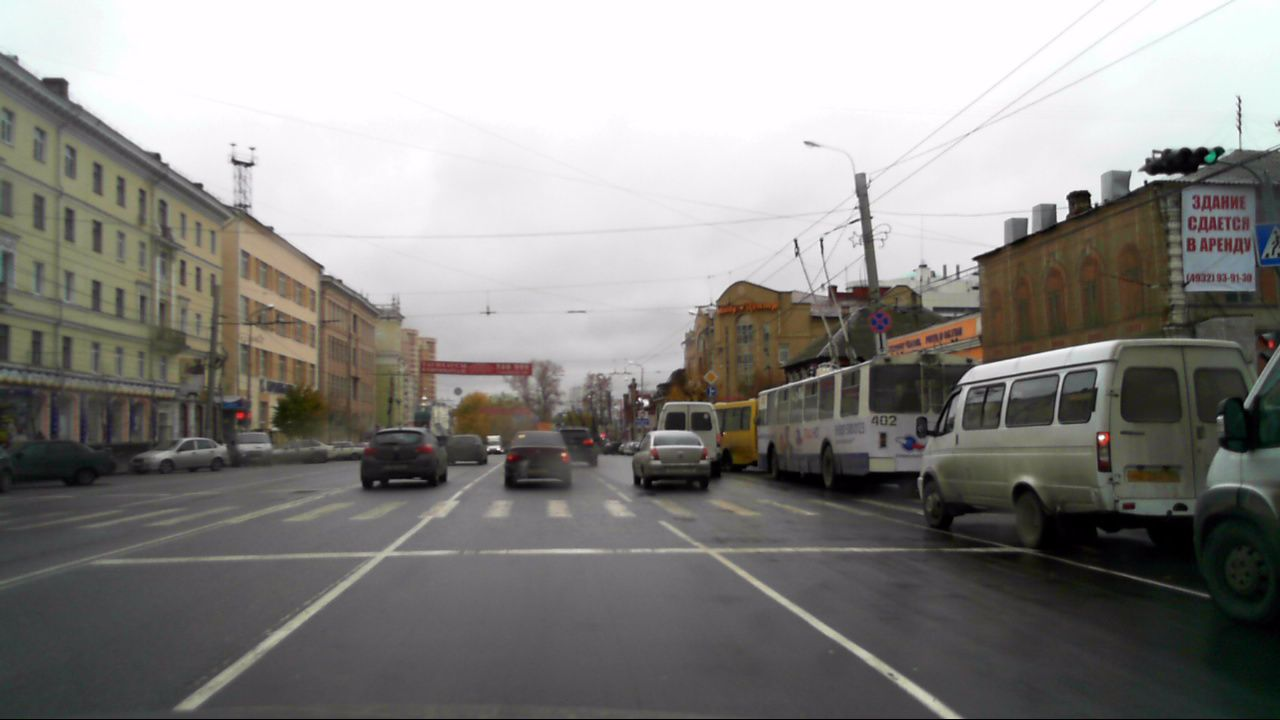No Parking: (866, 308, 892, 333)
